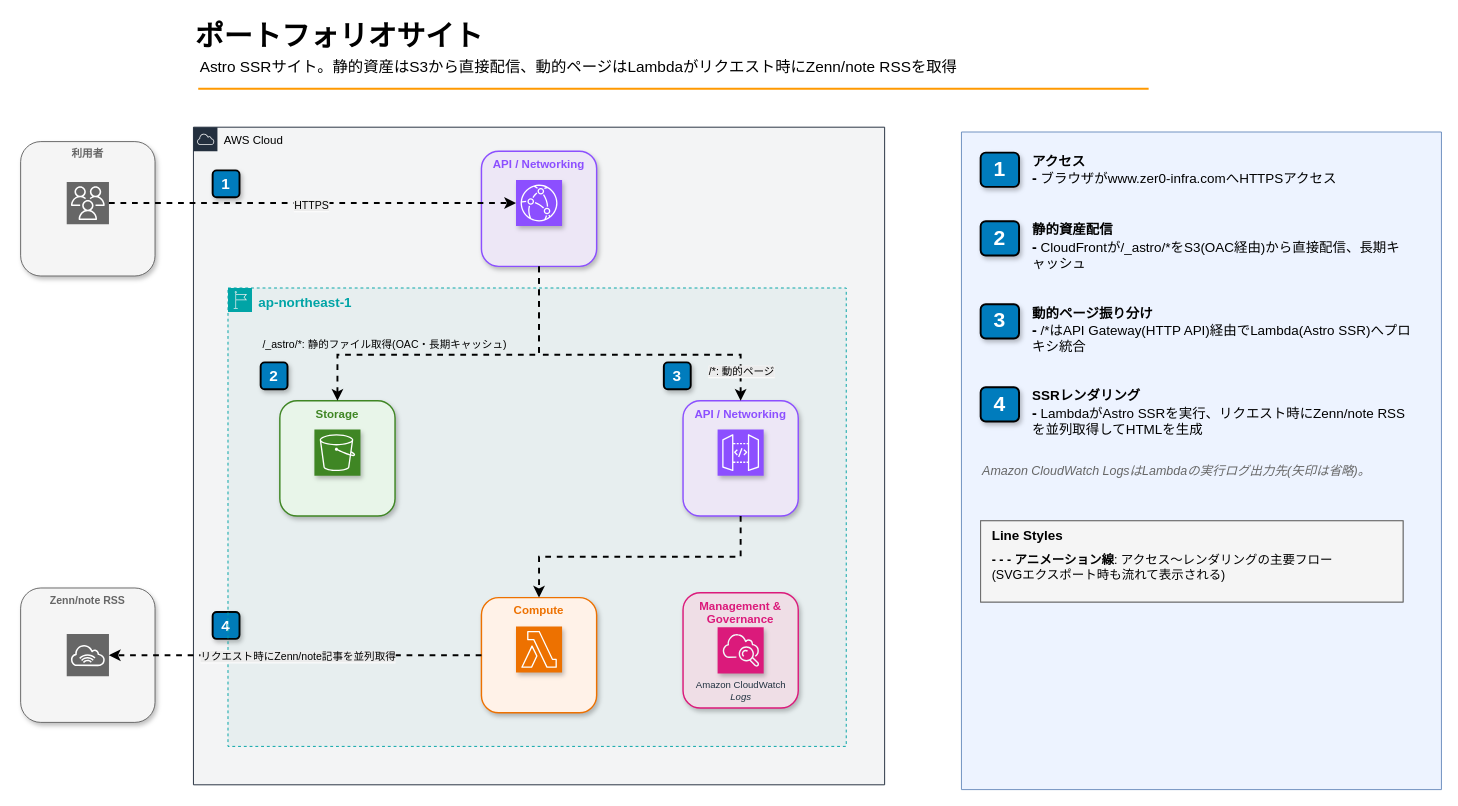
Image size: 1458x806. Some labels were removed from this diagram. Here are the shapes that lost their labels. From the top down, the centre of each, then its label:
pixel 87 202: ブラウザ
pixel 539 204: Amazon CloudFront www.zer0-infra.com
pixel 338 453: Amazon S3 /_astro/*(CSS/JS/画像)
pixel 741 453: API Gateway HTTP API
pixel 87 654: 記事一覧を並列取得
pixel 539 650: AWS Lambda Astro SSR
